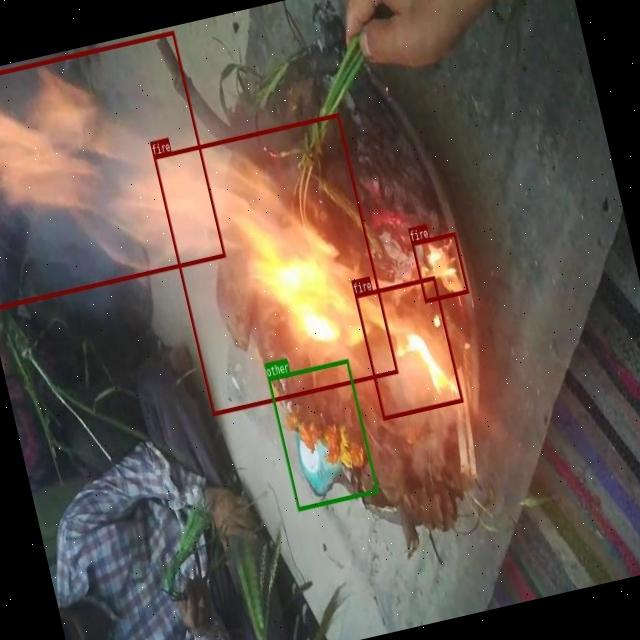fire: (152, 112, 398, 414), (0, 30, 225, 310), (354, 276, 463, 420), (411, 231, 468, 302)
